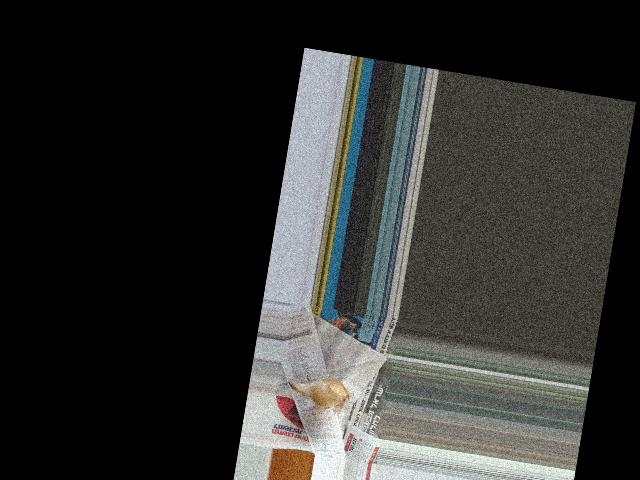onion: (304, 373, 346, 411)
